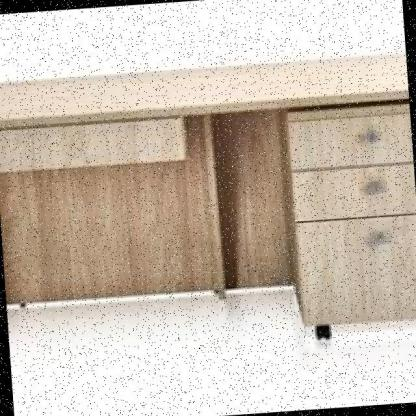Table: (0, 28, 416, 368)
